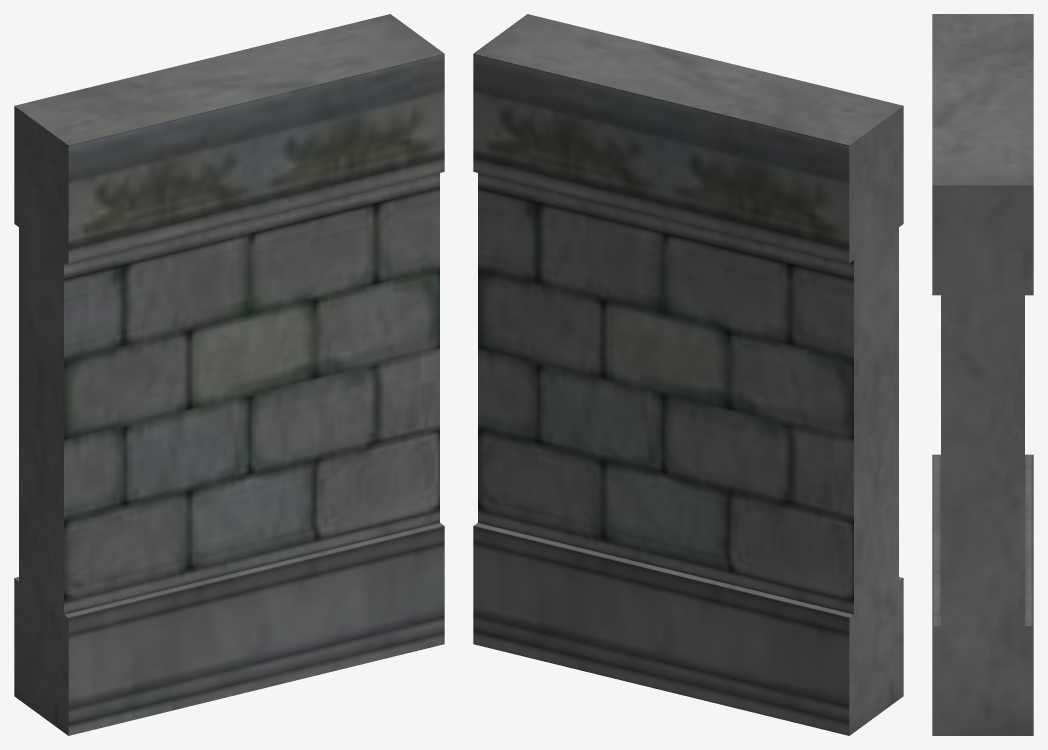
File: sd_wall_small_01.glb
3 views of the same model, side by side, from view 1: azimuth 30°, elevation 25°; view 2: azimuth 150°, elevation 25°; view 3: azimuth 270°, elevation 25° (orthographic). The views are drawn at different scales.
Parts seen in each view (by area): view 1: wall_small_01; view 2: wall_small_01; view 3: wall_small_01.
Part boxes in pixels (bbox=[...]): wall_small_01: bbox=[14, 14, 444, 735]; wall_small_01: bbox=[473, 14, 903, 735]; wall_small_01: bbox=[932, 14, 1033, 735].
Bounding box in the file's own units: 2 × 3 × 0.4999.
Materials: 1 (1 with a texture image).
